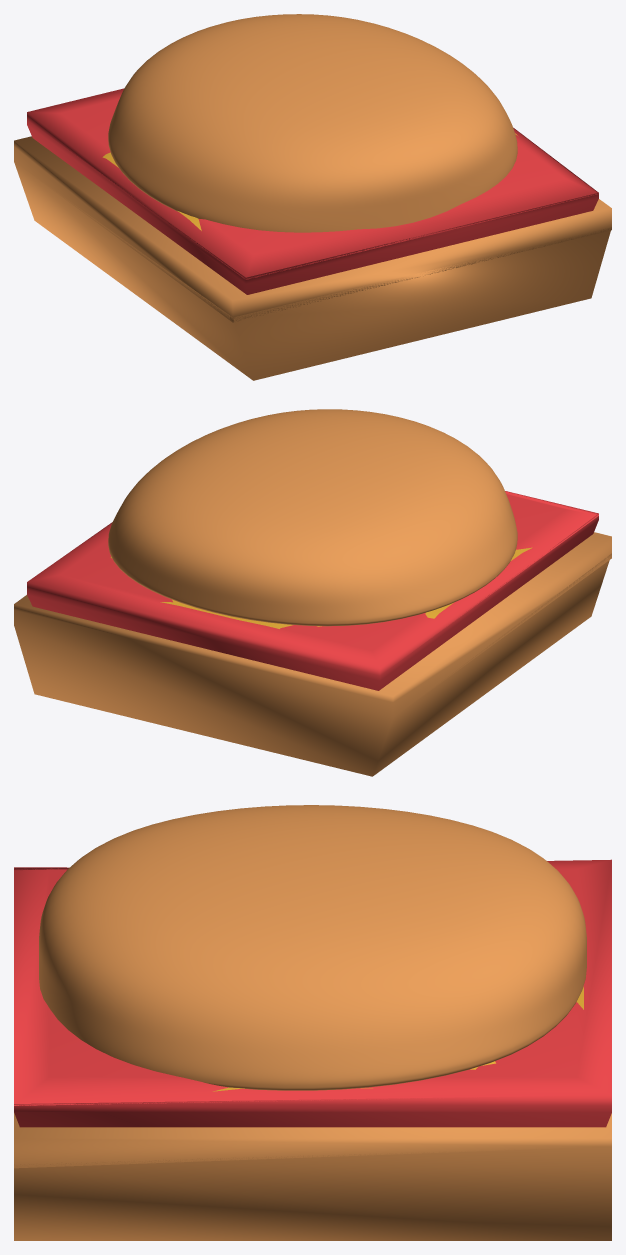
File: hamburger.glb
3 views of the same model, one above another, from view 1: azimuth 30°, elevation 25°; view 2: azimuth 150°, elevation 25°; view 3: azimuth 270°, elevation 25° (orthographic). The views are drawn at different scales.
Visible parts, largest first — view 1: Cube.002, Cube, Cube.001; view 2: Cube.002, Cube, Cube.001, Plane; view 3: Cube.002, Cube, Cube.001.
Boxes of the visible parts, x1=… form: Cube.002: x1=108, y1=14, x2=517, y2=232; Cube: x1=14, y1=136, x2=611, y2=380; Cube.001: x1=27, y1=88, x2=598, y2=294; Cube.002: x1=108, y1=409, x2=517, y2=626; Cube: x1=14, y1=532, x2=611, y2=776; Cube.001: x1=27, y1=491, x2=598, y2=690; Plane: x1=110, y1=547, x2=532, y2=628; Cube.002: x1=39, y1=805, x2=586, y2=1090; Cube: x1=14, y1=1113, x2=611, y2=1240; Cube.001: x1=14, y1=859, x2=611, y2=1127.
Bounding box in the file's own units: 9.6 × 4.72 × 9.6.
